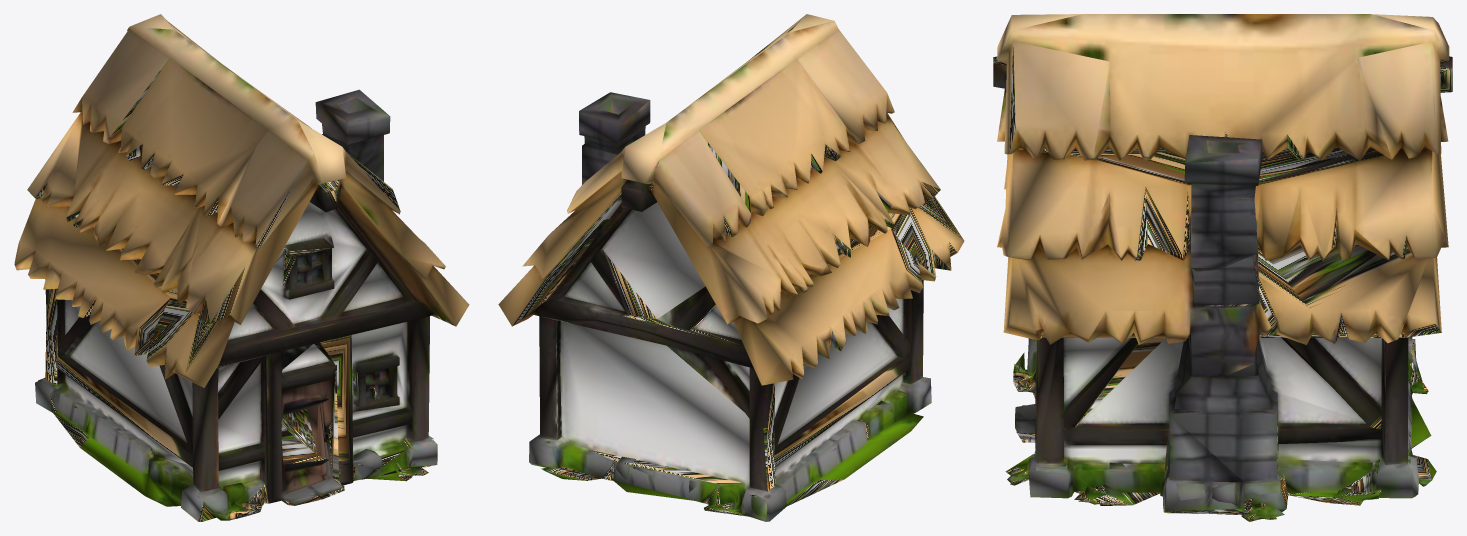
Rendered from cottage-thatch-a.glb.
The picture shows the model from 3 angles, left to right: view 1: azimuth 30°, elevation 25°; view 2: azimuth 150°, elevation 25°; view 3: azimuth 270°, elevation 25°; orthographic projection. The views are drawn at different scales.
Parts seen in each view (by area): view 1: node_0; view 2: node_0; view 3: node_0.
Part boxes in pixels (left/top/right/bottom): node_0: left=14, top=14, right=469, bottom=521; node_0: left=498, top=14, right=964, bottom=521; node_0: left=993, top=14, right=1452, bottom=521.
Size of the model in its own units: 4.6 by 5 by 5.
Materials: 1 (1 with a texture image).
